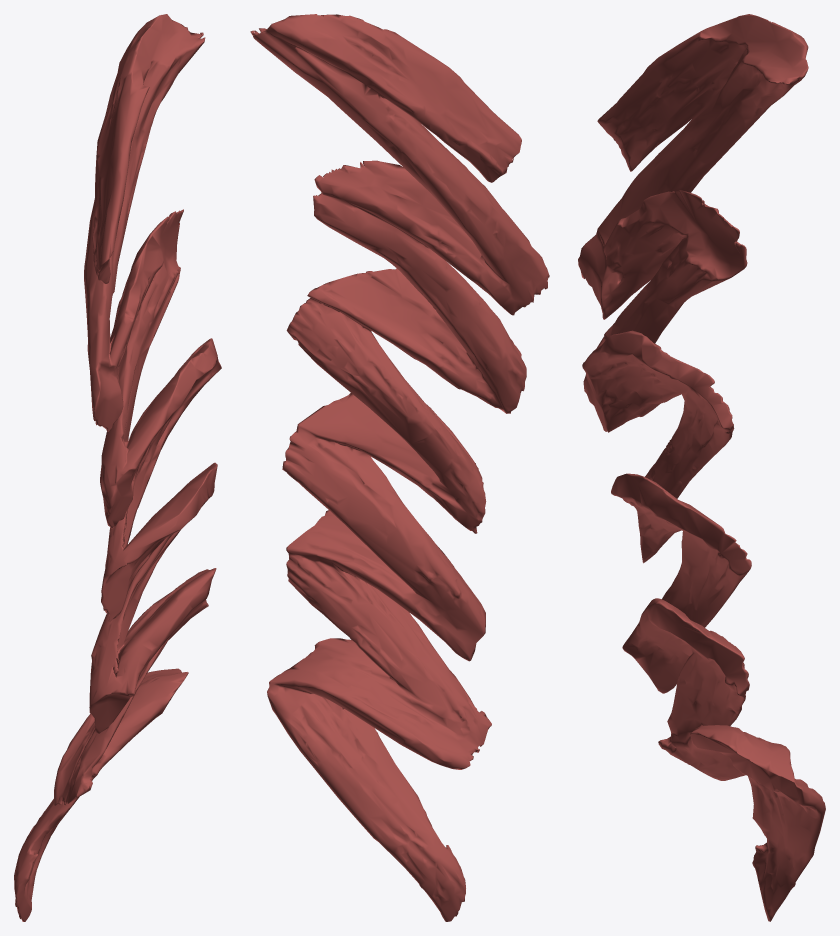
The model's file is FMA81752.glb.
The picture shows the model from 3 angles, left to right: view 1: azimuth 30°, elevation 25°; view 2: azimuth 150°, elevation 25°; view 3: azimuth 270°, elevation 25°; orthographic projection. The views are drawn at different scales.
Visible parts, largest first — view 1: FMA81752; view 2: FMA81752; view 3: FMA81752.
Part boxes in pixels (x1,y1,x2,y2): FMA81752: [14, 14, 221, 921]; FMA81752: [250, 14, 549, 921]; FMA81752: [578, 14, 825, 921].
Bounding box in the file's own units: 0.0232 × 0.095 × 0.022.
